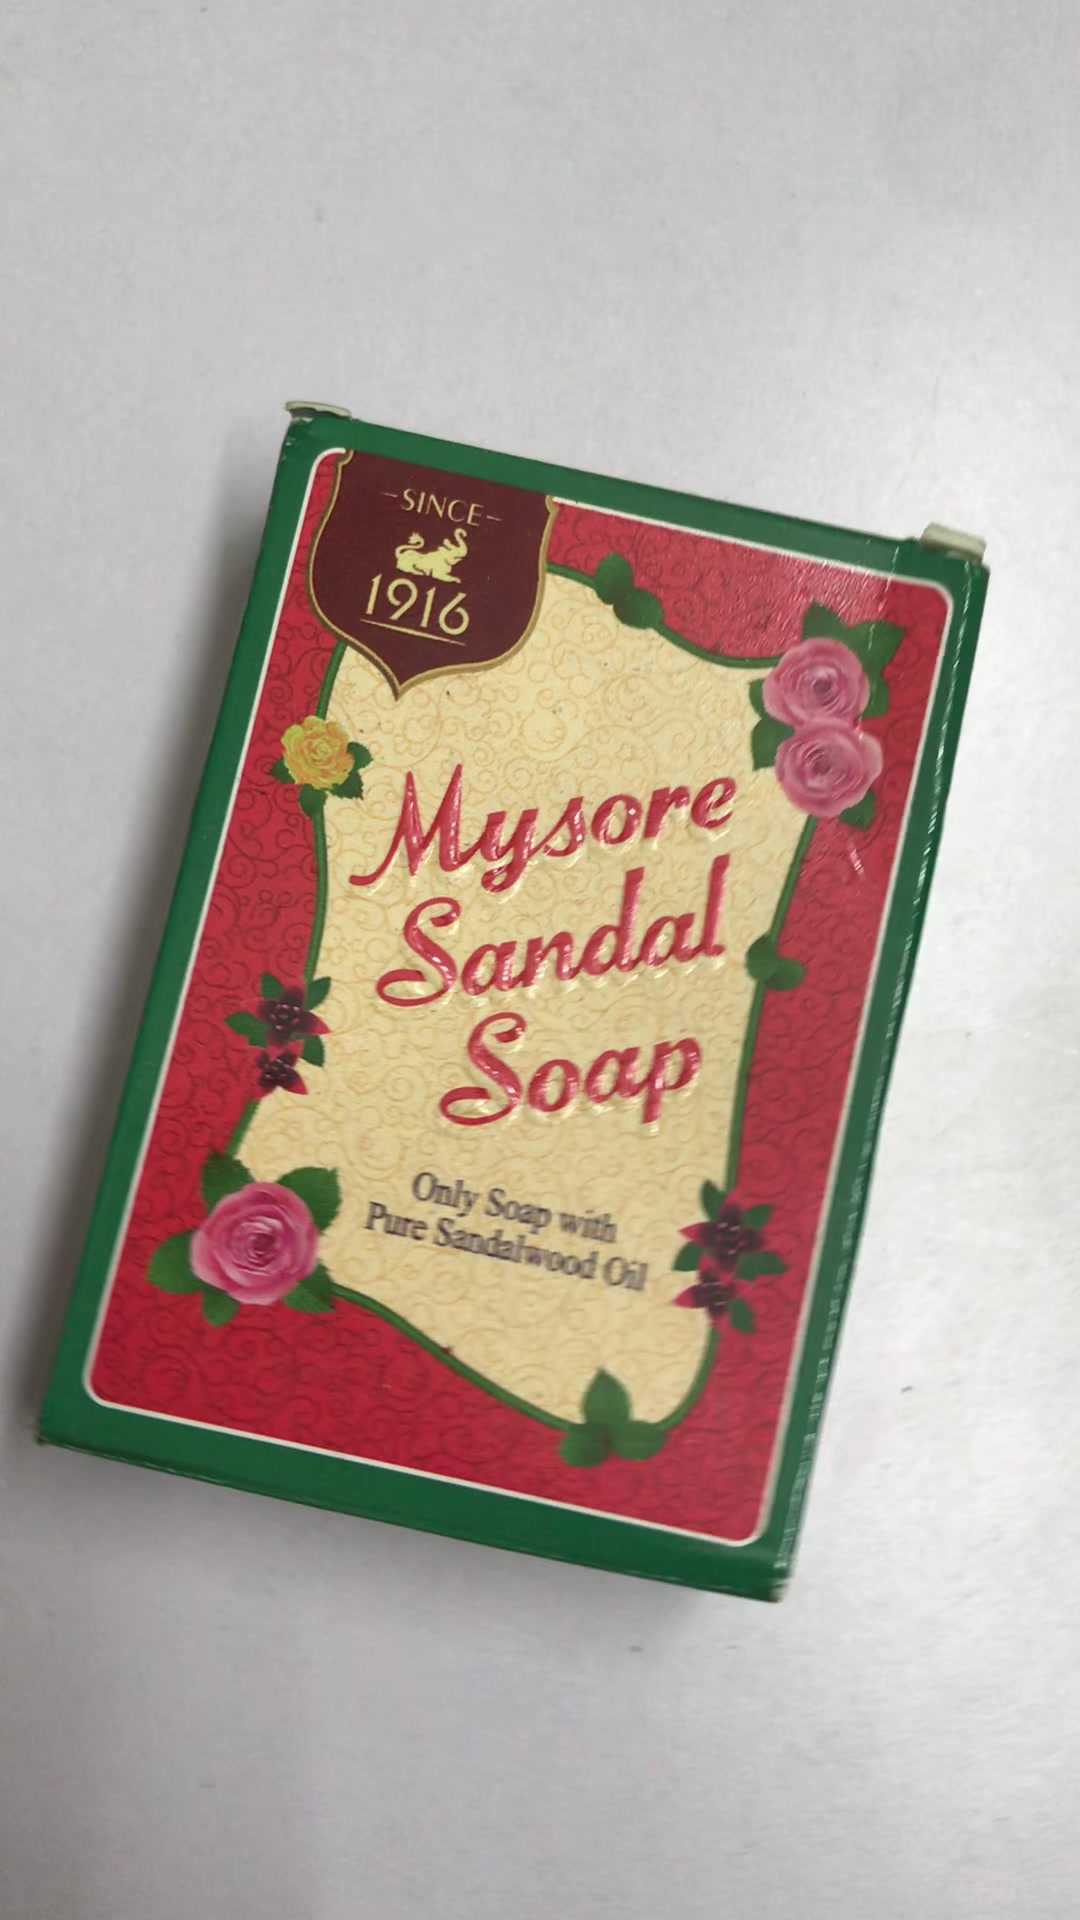mysore sandal soap: (32, 402, 997, 1606)
